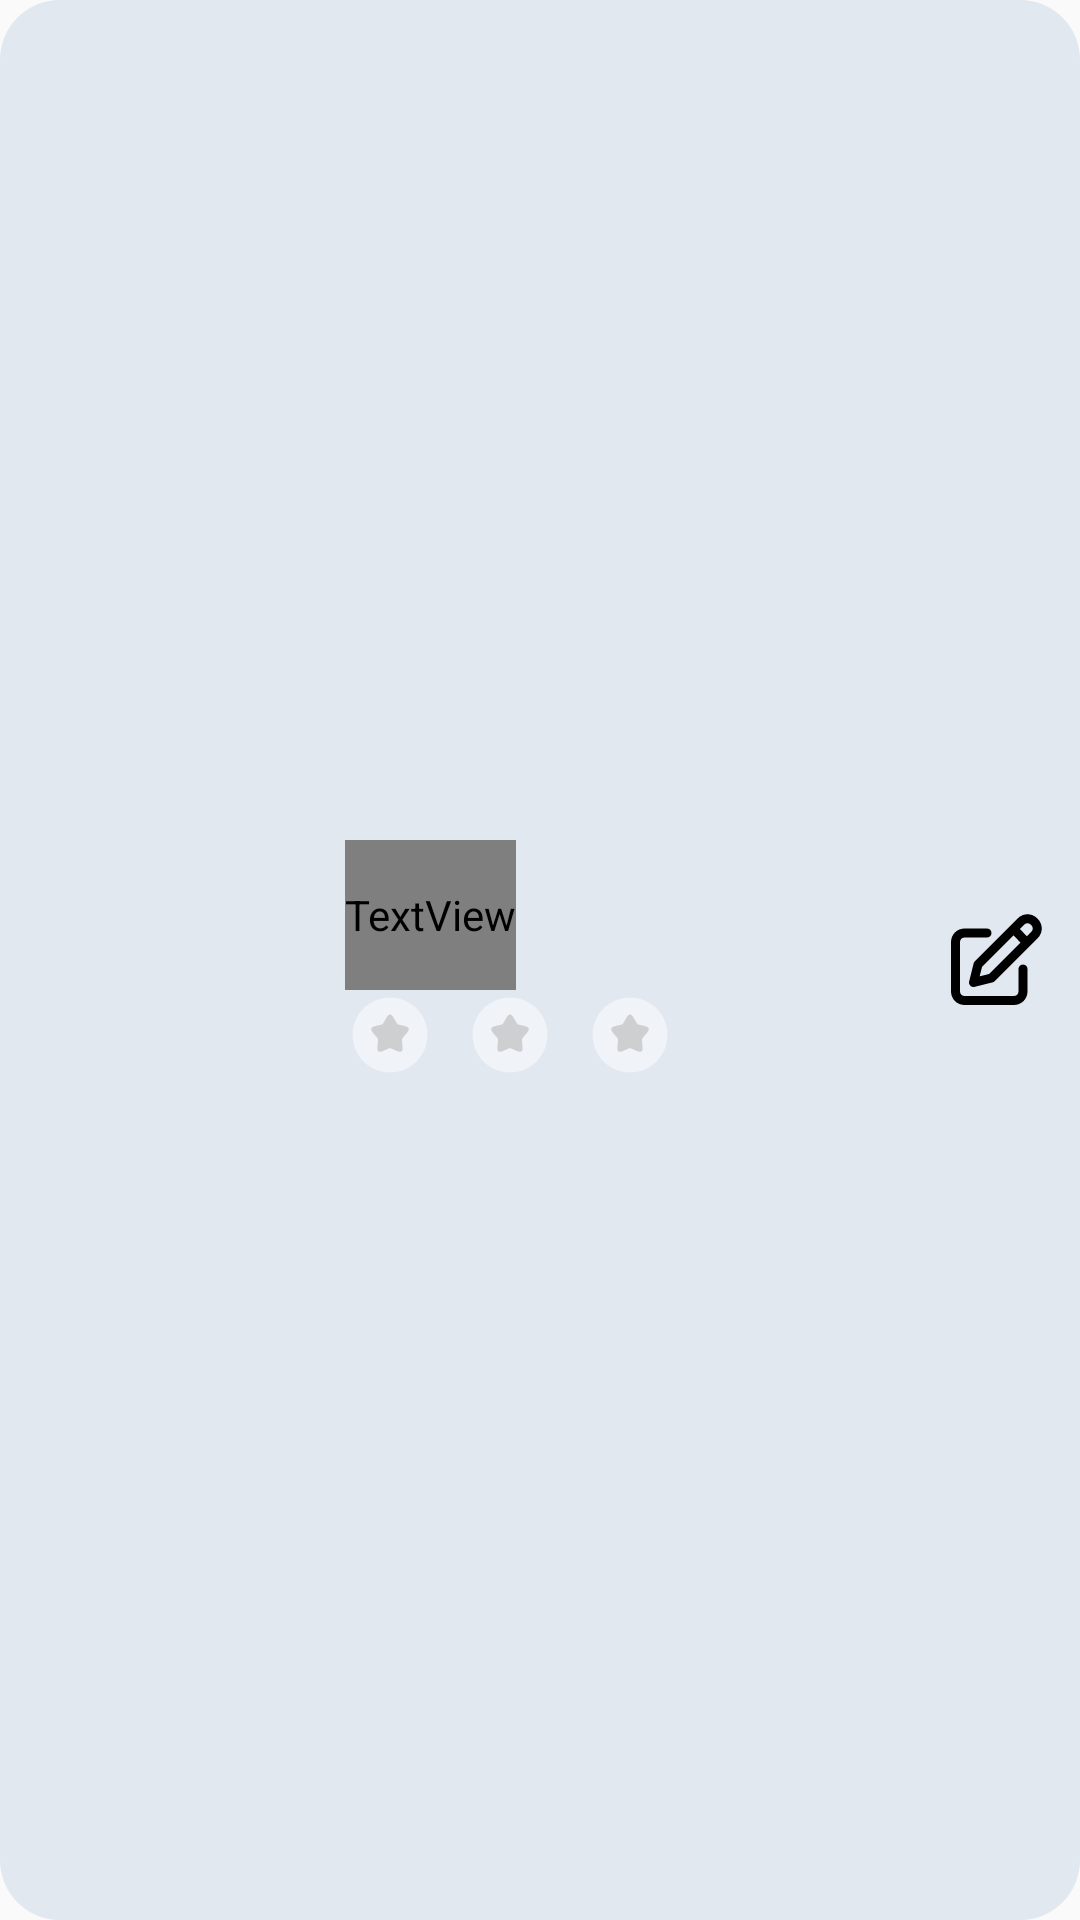

Icon click points for this 1080 × 1920 phone screenshot, format (x,y):
edit: (996,959)
